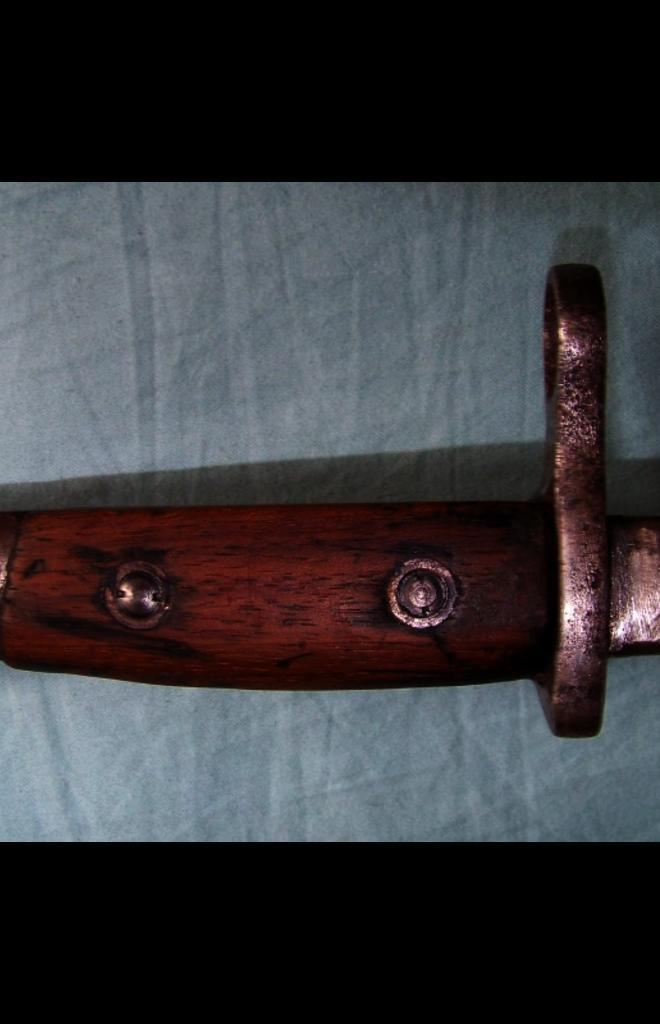melee: (0, 259, 660, 742)
